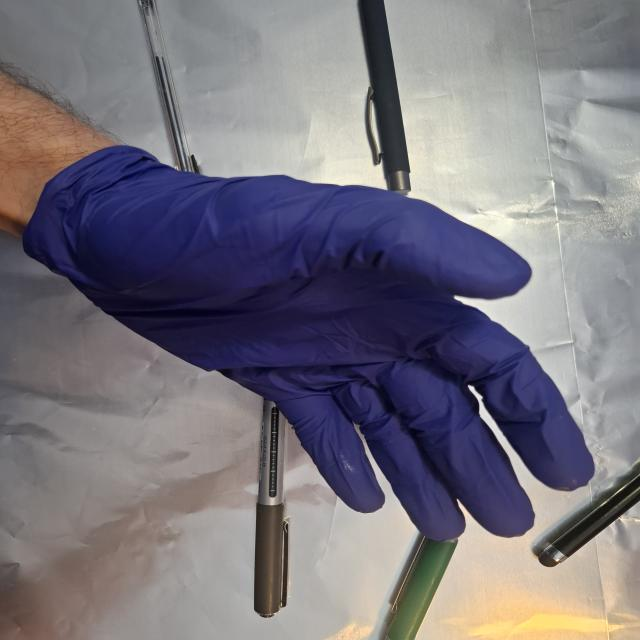glove_on: (28, 142, 600, 544)
